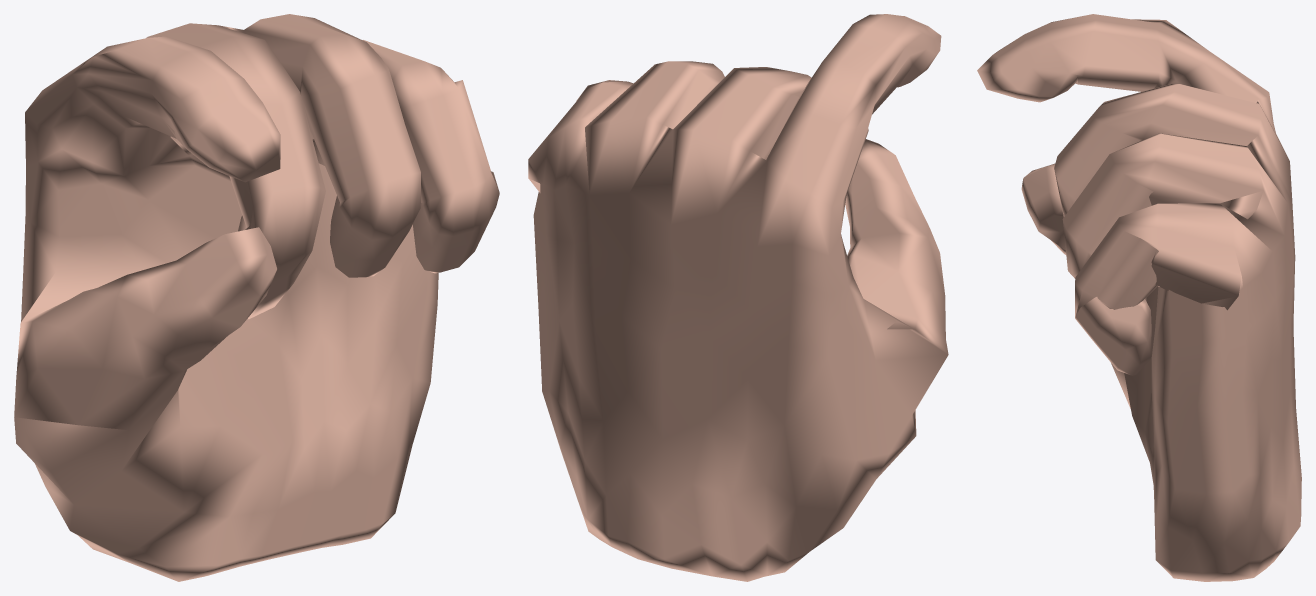
Rendered from CURVADO_X.obj.
The picture shows the model from 3 angles, left to right: view 1: azimuth 30°, elevation 25°; view 2: azimuth 150°, elevation 25°; view 3: azimuth 270°, elevation 25°; orthographic projection. The views are drawn at different scales.
Visible parts, largest first — view 1: mao_dir polySurface1; view 2: mao_dir polySurface1; view 3: mao_dir polySurface1.
Part boxes in pixels (<box>): mao_dir polySurface1: <box>14,14,499,581</box>; mao_dir polySurface1: <box>528,14,948,581</box>; mao_dir polySurface1: <box>977,14,1301,581</box>.
Bounding box in the file's own units: 136 × 169 × 106.
